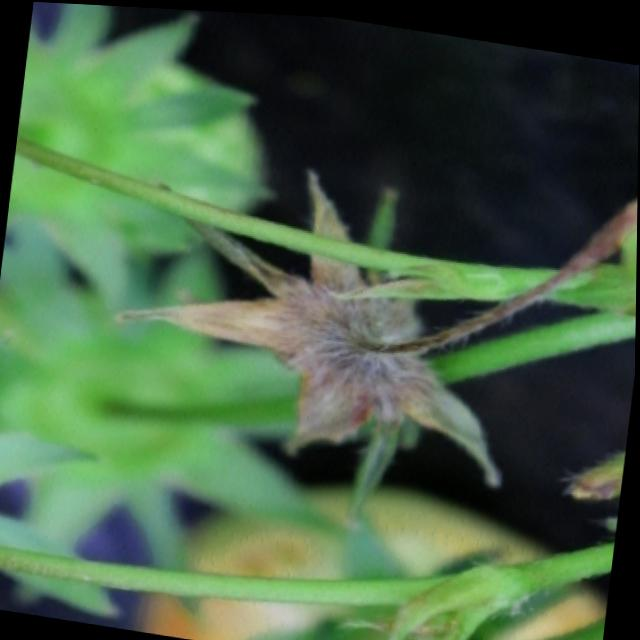Gray Mold: (115, 164, 503, 481)
